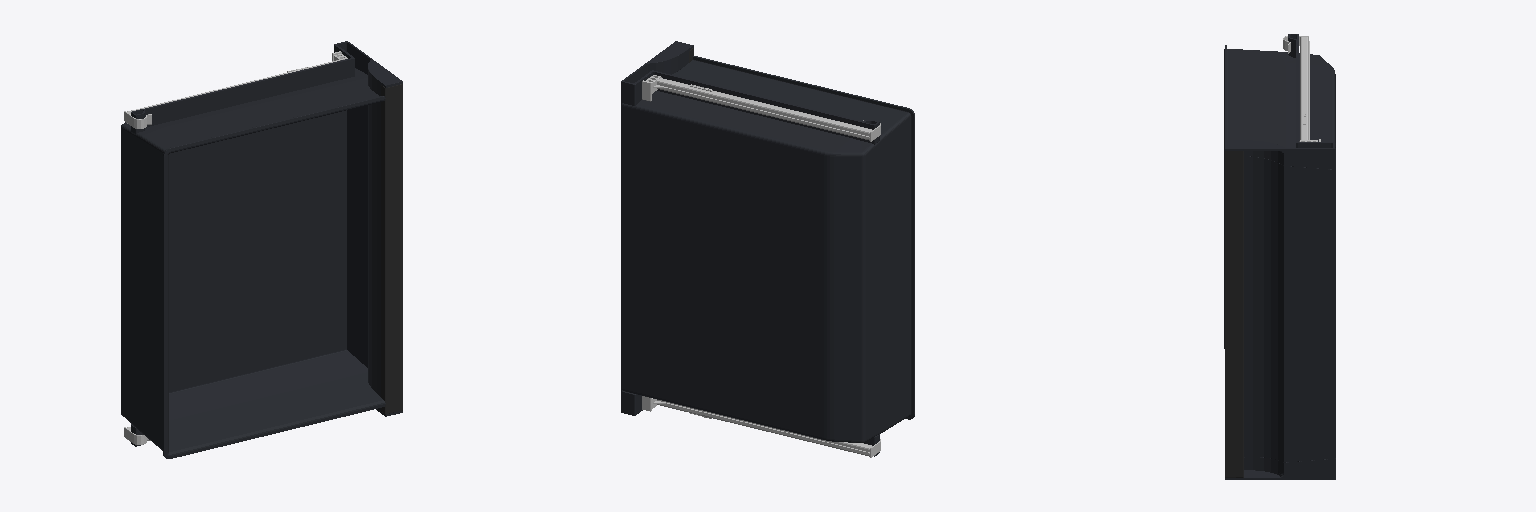
The model's file is FridgeDrawer02.obj.
3 renders of one model, left to right at view 1: azimuth 30°, elevation 25°; view 2: azimuth 150°, elevation 25°; view 3: azimuth 270°, elevation 25°, orthographic.
Visible parts, largest first — view 1: FridgeDrawer02; view 2: FridgeDrawer02; view 3: FridgeDrawer02.
Boxes of the visible parts, box(x1,y1,x2,y2) form: FridgeDrawer02: box(121, 41, 402, 458); FridgeDrawer02: box(621, 41, 914, 457); FridgeDrawer02: box(1224, 34, 1335, 479).
Bounding box in the file's own units: 0.3436 × 0.4543 × 0.138.